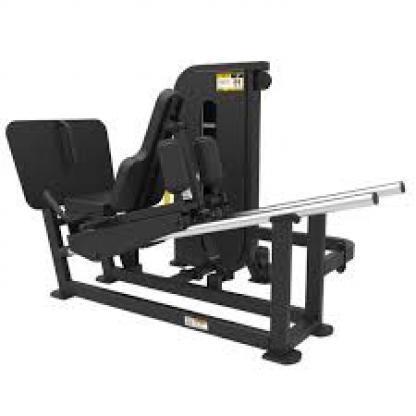leg press: (6, 50, 410, 377)
